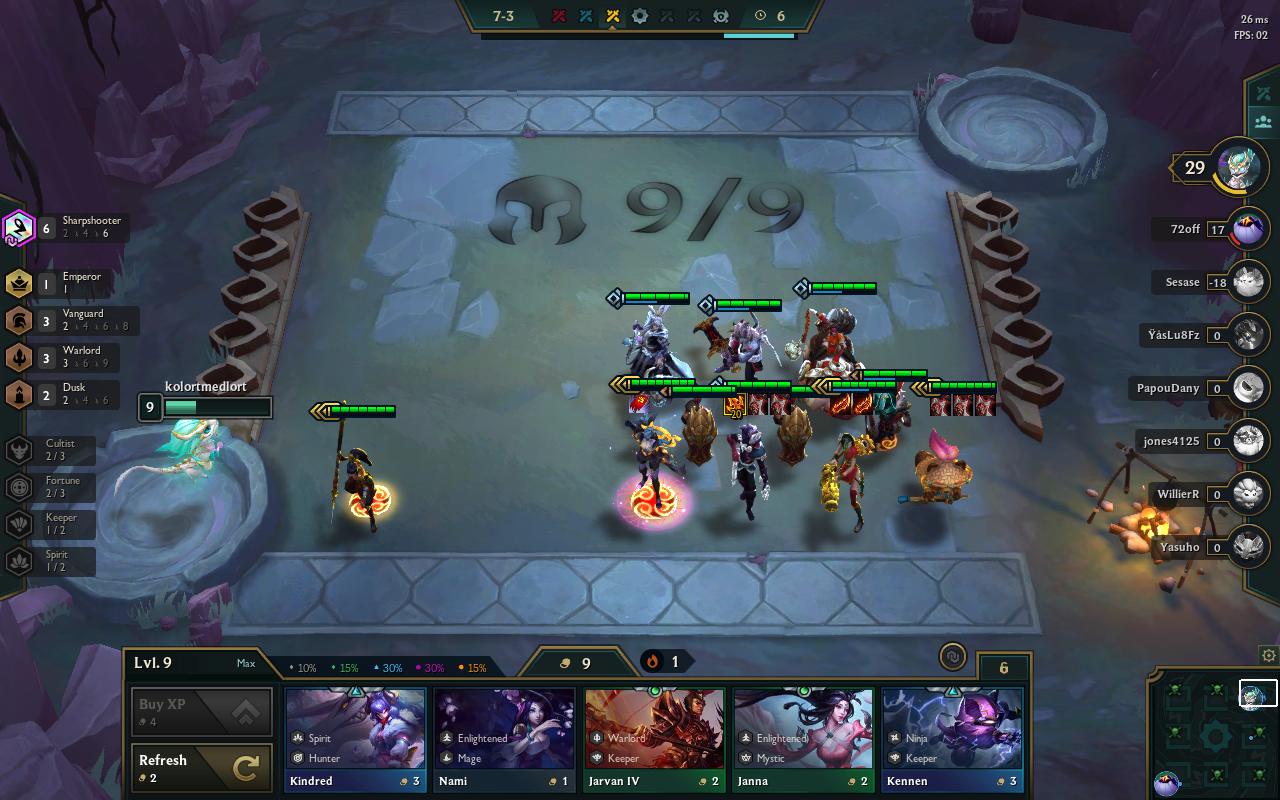1star_azir: (848, 364, 931, 465)
1star_azirsoldier: (752, 377, 840, 473), (656, 379, 744, 475)
2star_aatrox: (690, 288, 793, 409)
2star_jhin: (699, 375, 800, 544)
2star_sejuani: (781, 274, 887, 422)
2star_thresh: (596, 280, 707, 412)
3star_jinx: (795, 371, 903, 551)
3star_nidalee: (302, 387, 415, 551)
3star_teemo: (897, 368, 1011, 541)
3star_vayne: (590, 369, 704, 547)
3star_vayne_chosen: (588, 367, 702, 545)
item_deathblade: (721, 388, 753, 419)
item_guinsoo: (846, 386, 878, 417), (826, 389, 858, 420)
item_quicksilver: (870, 387, 902, 418)
item_warlord: (623, 386, 655, 417)
item_zeke: (741, 386, 773, 417), (764, 386, 796, 417), (923, 389, 955, 420), (944, 389, 976, 420), (966, 389, 998, 420)
trait_cultist2: (1, 426, 147, 469)
trait_dusk2: (1, 369, 147, 412)
trait_emperor1: (1, 261, 147, 304)
trait_fortune2: (1, 464, 147, 507)
trait_keeper1: (1, 499, 147, 542)
trait_sharpshooter6: (1, 207, 147, 250)
trait_sharpshooter_chosen: (1, 205, 41, 250)
trait_spirit1: (1, 537, 147, 580)
trait_vanguard3: (1, 300, 147, 343)
trait_warlord3: (1, 333, 147, 376)
